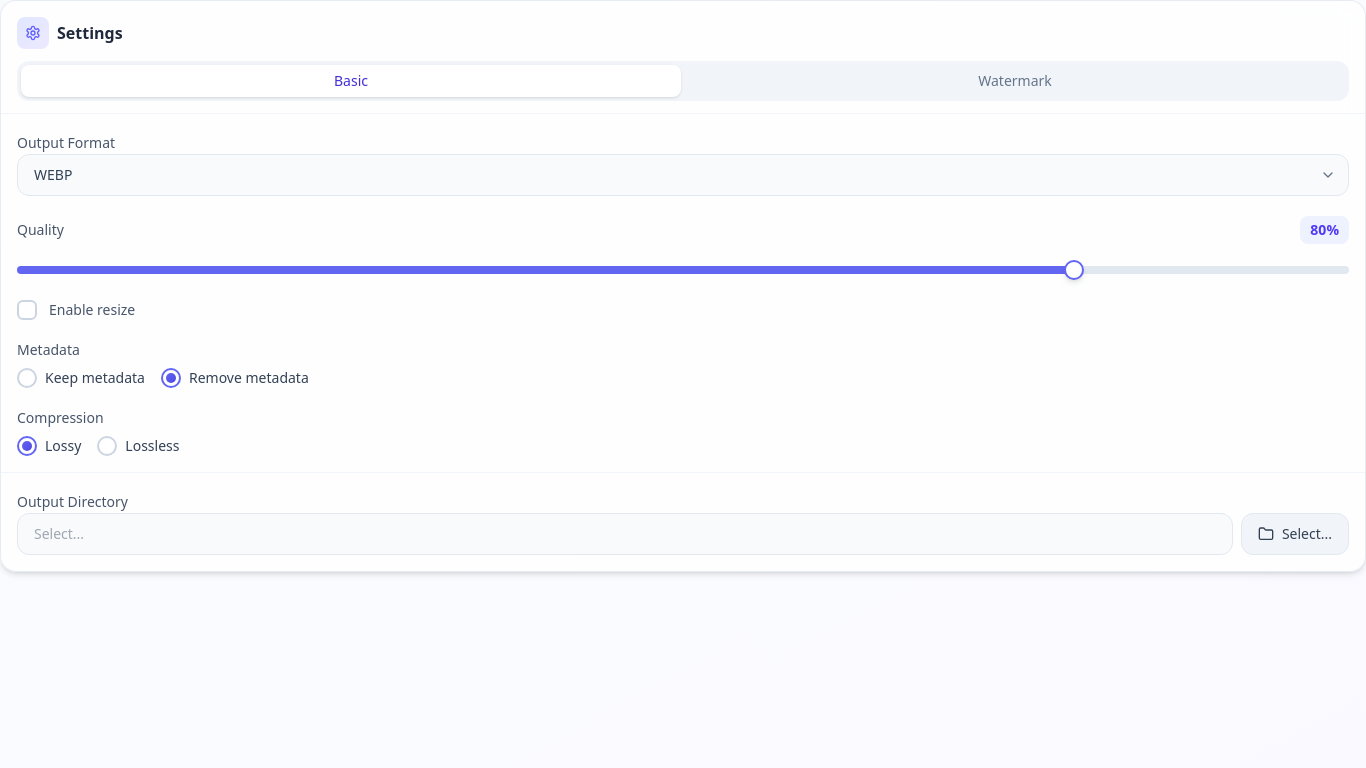
Test: SettingsPanel › タブ › ウォーターマークのタブに切り替えると、基本設定の欄は消える
Step 1. Click the tab "Watermark" → (1015, 81), box [685, 65, 1345, 97]
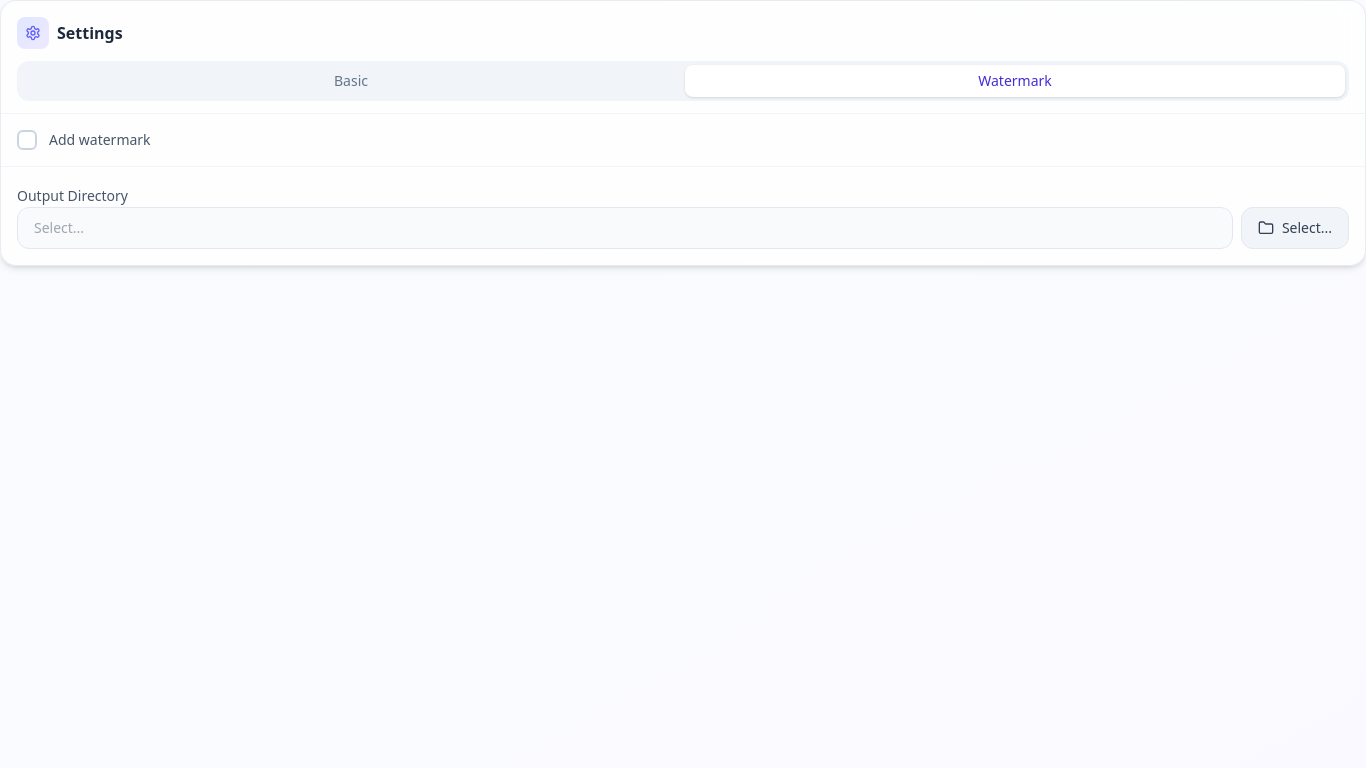
Expected: the checkbox labelled "Add watermark" is shown, [17, 130, 37, 150]
Now the label "Output Format" is gone
